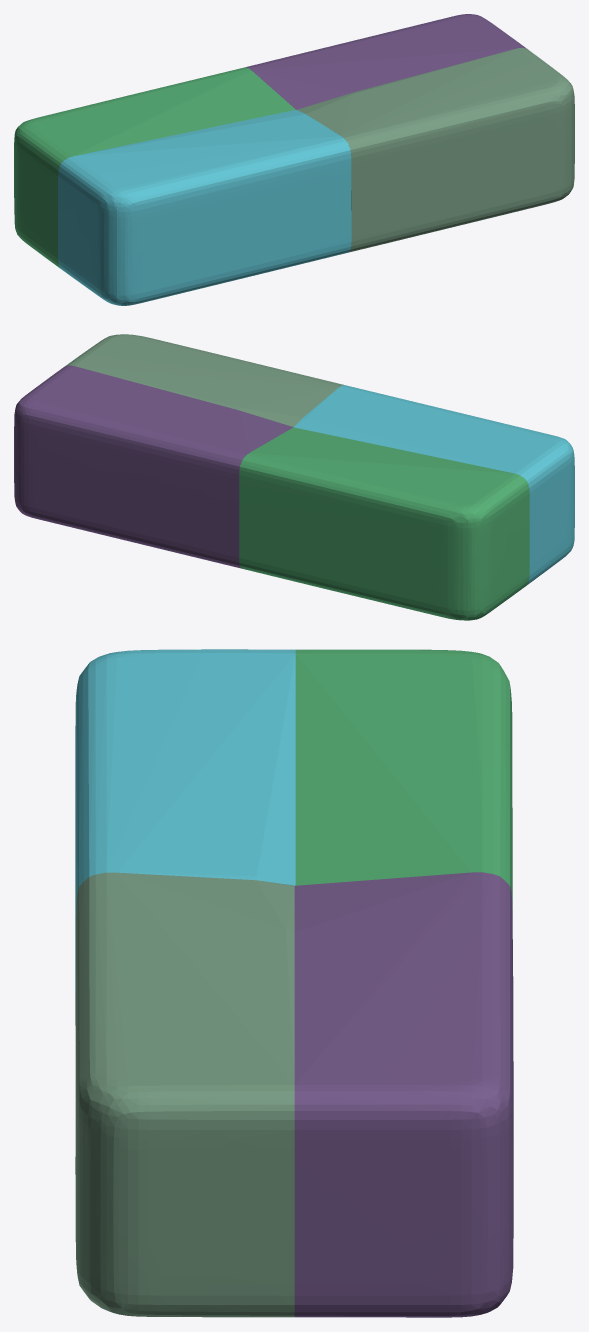
Rendered from flat_eraser.obj.
The picture shows the model from 3 angles, top to bottom: view 1: azimuth 30°, elevation 25°; view 2: azimuth 150°, elevation 25°; view 3: azimuth 270°, elevation 25°; orthographic projection. The views are drawn at different scales.
Visible parts, largest first — view 1: geometry_2, geometry_0, geometry_3, geometry_1; view 2: geometry_3, geometry_1, geometry_2, geometry_0; view 3: geometry_1, geometry_0, geometry_2, geometry_3.
Part boxes in pixels (bbox=[...]): geometry_2: bbox=[58, 110, 351, 305]; geometry_0: bbox=[297, 47, 574, 252]; geometry_3: bbox=[14, 67, 295, 268]; geometry_1: bbox=[246, 14, 526, 109]; geometry_3: bbox=[239, 427, 529, 620]; geometry_1: bbox=[14, 365, 293, 568]; geometry_2: bbox=[294, 385, 574, 584]; geometry_0: bbox=[66, 334, 343, 426]; geometry_1: bbox=[294, 872, 513, 1317]; geometry_0: bbox=[75, 872, 294, 1317]; geometry_2: bbox=[75, 649, 295, 1025]; geometry_3: bbox=[295, 649, 512, 909].
Size of the model in its own units: 0.1264 by 0.0295 by 0.051.
